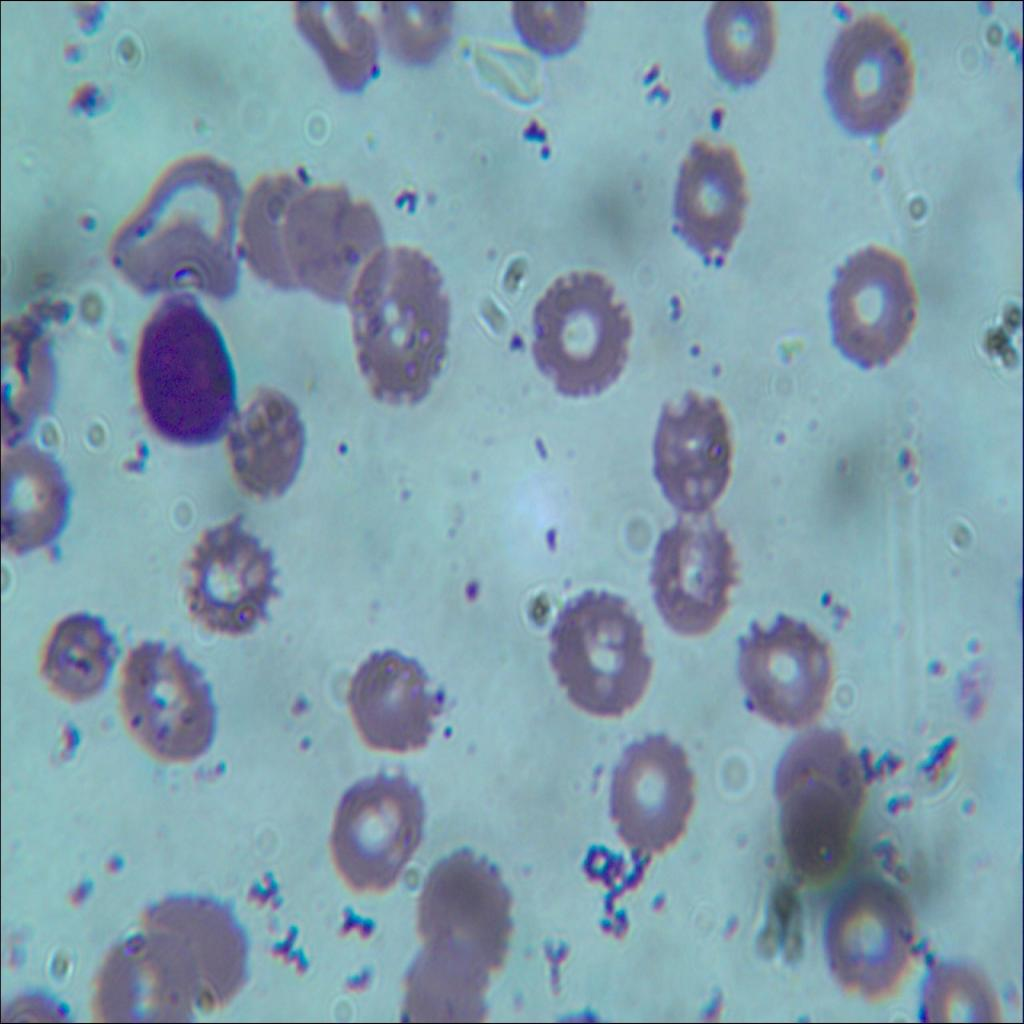Eritrosit: (111, 152, 244, 298), (349, 236, 448, 405), (551, 586, 658, 714), (283, 182, 388, 308), (532, 271, 634, 396), (818, 8, 918, 132), (826, 242, 920, 371), (148, 882, 242, 1008), (330, 768, 426, 891), (119, 644, 211, 768), (606, 732, 692, 855), (184, 522, 276, 636), (664, 138, 750, 258), (343, 644, 438, 752), (422, 852, 508, 971), (738, 609, 828, 722), (90, 928, 194, 1023), (241, 168, 324, 286), (648, 518, 736, 628), (826, 892, 911, 1000), (774, 724, 864, 825), (654, 396, 735, 508), (298, 0, 381, 99), (0, 440, 63, 566), (399, 939, 493, 1023), (228, 395, 302, 501), (0, 321, 58, 441), (782, 784, 854, 876), (709, 0, 771, 98), (921, 951, 999, 1023), (40, 616, 110, 696)
Limfoblast: (135, 292, 235, 438)
Platelet: (56, 872, 103, 924), (326, 431, 362, 478), (63, 202, 104, 241), (94, 842, 131, 882), (71, 75, 102, 118), (534, 514, 564, 558), (53, 28, 86, 65), (958, 630, 990, 666), (921, 647, 948, 686), (288, 681, 314, 721), (453, 574, 484, 605), (893, 434, 915, 472), (708, 94, 730, 131), (642, 888, 668, 918), (538, 138, 559, 175), (296, 728, 318, 762), (772, 415, 790, 454), (431, 678, 454, 708), (708, 354, 729, 385), (439, 721, 464, 745), (506, 326, 524, 356), (683, 335, 702, 360), (366, 58, 384, 84), (818, 584, 831, 614)
